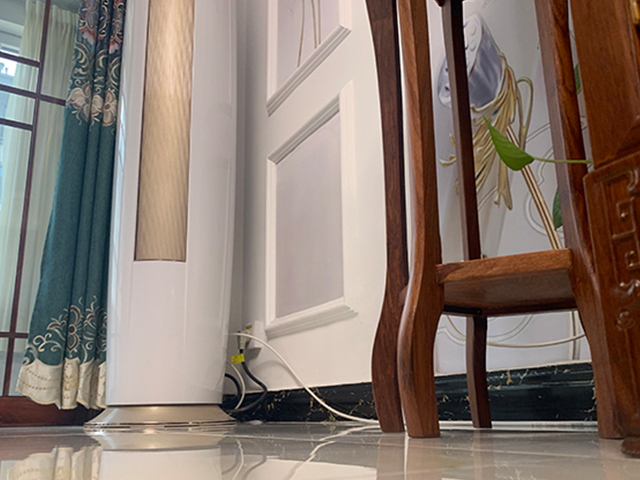curtain: (14, 1, 126, 408)
wire: (224, 329, 378, 424)
